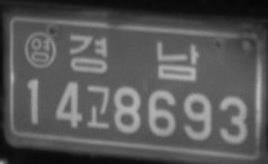1: (20, 78, 49, 123)
3: (219, 95, 248, 146)
4: (54, 80, 83, 128)
6: (147, 89, 176, 138)
8: (113, 85, 142, 134)
9: (183, 92, 212, 142)
경남_D: (69, 33, 200, 81)
고: (85, 85, 110, 129)
영: (23, 31, 57, 69)
